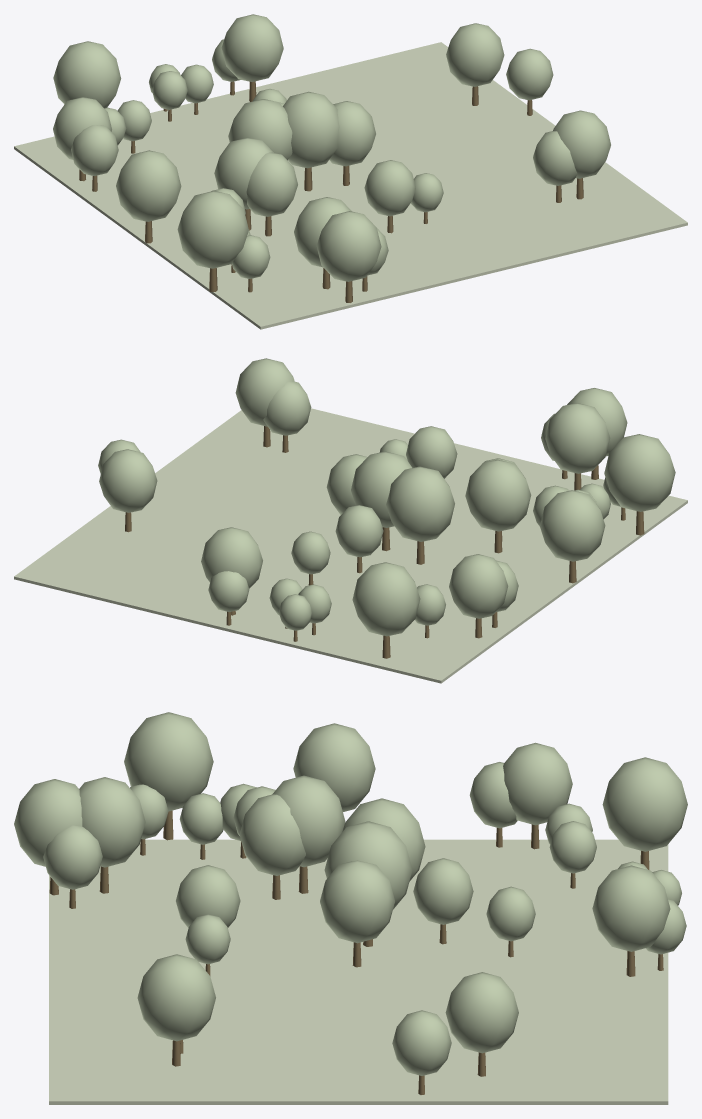
3 views of the same model, one above another, from view 1: azimuth 30°, elevation 25°; view 2: azimuth 150°, elevation 25°; view 3: azimuth 270°, elevation 25° (orthographic). The views are drawn at different scales.
Parts seen in each view (by area): view 1: terrain, lod-near-7, lod-near-19, lod-near-28, lod-near-11, lod-near-5, lod-near-6, lod-near-3, lod-near-10, lod-near-8, lod-near-13, lod-near-9 (+13 smaller); view 2: terrain, lod-near-7, lod-near-13, lod-near-5, lod-near-27, lod-near-19, lod-near-15, lod-near-30, lod-near-3, lod-near-6, lod-near-11, lod-near-10 (+14 smaller); view 3: terrain, lod-near-7, lod-near-5, lod-near-10, lod-near-6, lod-near-29, lod-near-19, lod-near-3, lod-near-30, lod-near-15, lod-near-8, lod-near-28 (+17 smaller).
Boxes of the visible parts, x1,y1,x2,y2 form: terrain: (14, 42, 687, 329); lod-near-7: (177, 191, 248, 268); lod-near-19: (116, 150, 181, 221); lod-near-28: (316, 211, 381, 281); lod-near-11: (283, 91, 339, 168); lod-near-5: (53, 41, 121, 108); lod-near-6: (221, 14, 283, 81); lod-near-3: (446, 23, 504, 86); lod-near-10: (553, 110, 610, 178); lod-near-8: (246, 152, 297, 216); lod-near-13: (228, 99, 292, 160); lod-near-9: (364, 160, 415, 216); terrain: (14, 408, 687, 683); lod-near-7: (604, 434, 675, 511); lod-near-13: (386, 466, 454, 541); lod-near-5: (352, 562, 420, 636); lod-near-27: (465, 459, 531, 531); lod-near-19: (540, 490, 605, 561); lod-near-15: (545, 403, 610, 473); lod-near-30: (449, 554, 508, 618); lod-near-3: (99, 449, 157, 512); lod-near-6: (201, 527, 262, 588); lod-near-11: (351, 451, 412, 527); lod-near-10: (235, 358, 294, 426); terrain: (49, 839, 668, 1104); lod-near-7: (124, 712, 213, 811); lod-near-5: (602, 757, 687, 851); lod-near-10: (137, 954, 215, 1041); lod-near-6: (592, 865, 670, 951); lod-near-29: (320, 860, 394, 943); lod-near-19: (293, 723, 375, 811); lod-near-3: (445, 972, 518, 1053); lod-near-30: (503, 742, 572, 825); lod-near-15: (79, 777, 145, 867); lod-near-8: (239, 794, 305, 875); lod-near-28: (14, 779, 82, 866).
Size of the model in its own units: 35.11 by 7.31 by 34.82.
